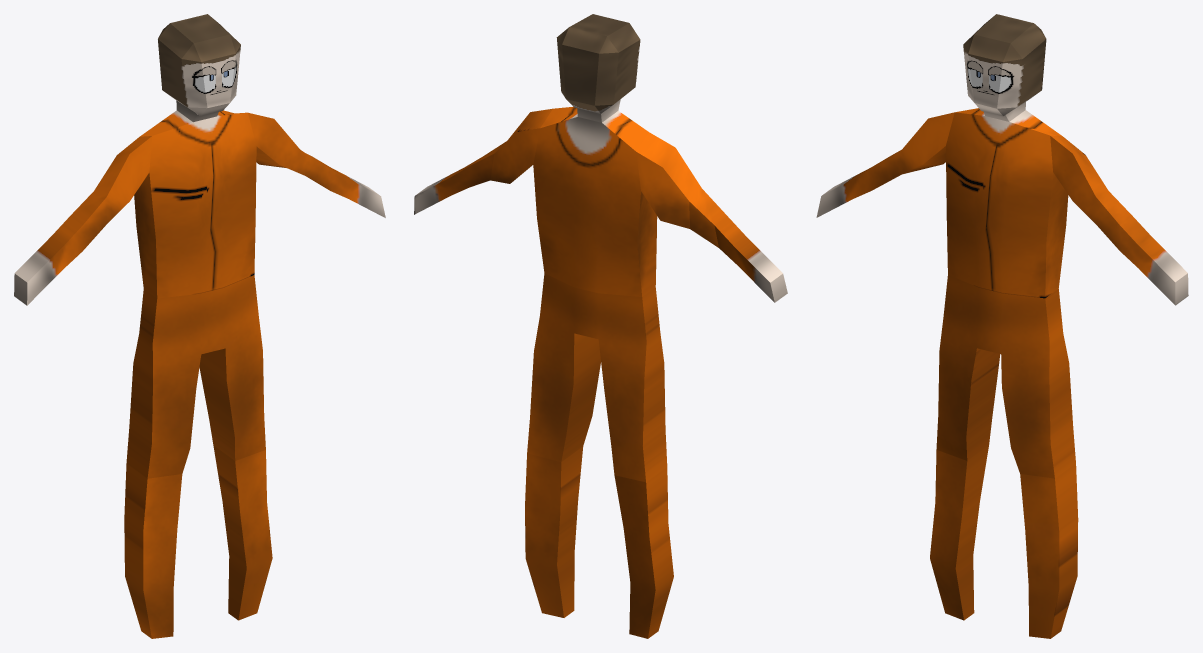
Rendered from vincent debarion.fbx.
3 renders of one model, left to right at view 1: azimuth 30°, elevation 25°; view 2: azimuth 150°, elevation 25°; view 3: azimuth 330°, elevation 25°, orthographic.
Visible parts, largest first — view 1: pCube1, pCube2; view 2: pCube1, pCube2; view 3: pCube1, pCube2.
Boxes of the visible parts, x1,y1,x2,y2 form: pCube1: (14,100,385,638); pCube2: (158,14,240,115); pCube1: (414,99,787,638); pCube2: (556,14,640,113); pCube1: (816,102,1188,638); pCube2: (963,14,1046,116).
Size of the model in its own units: 7.41 by 11.77 by 1.33.
